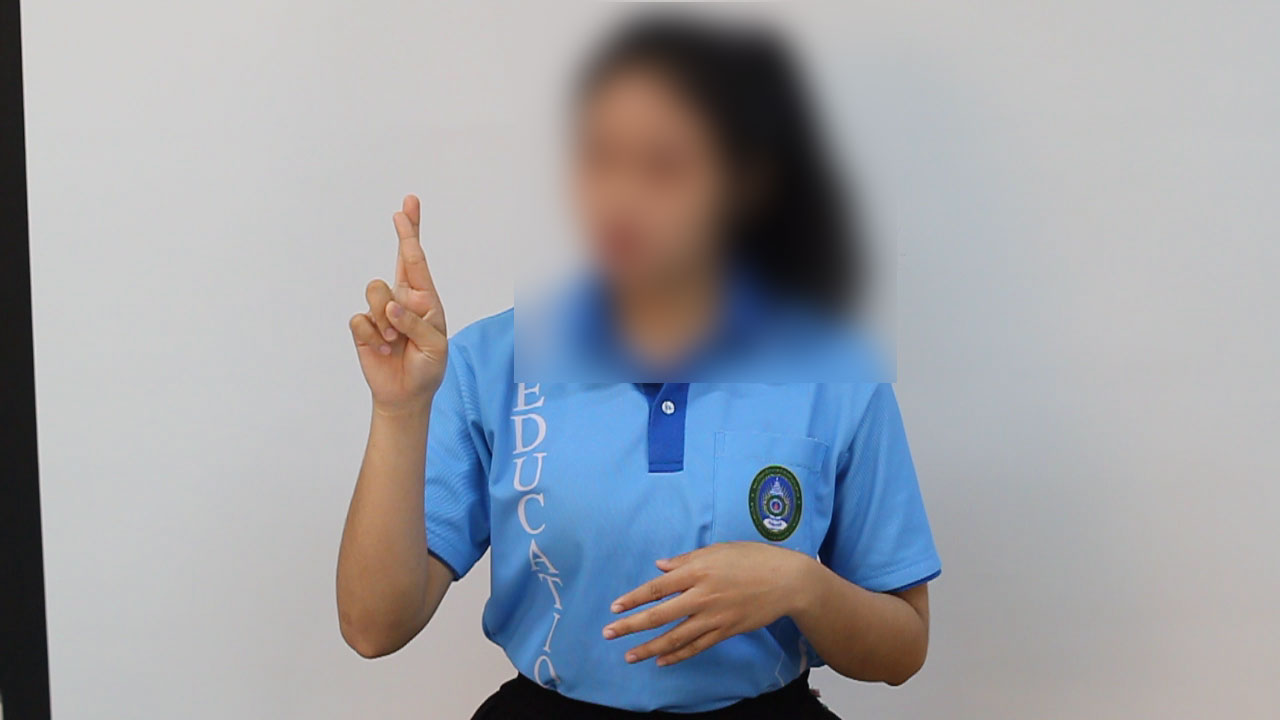rao: (338, 186, 460, 419)
